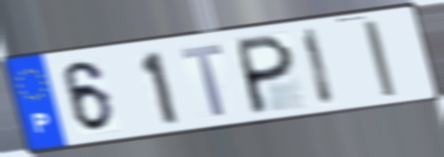1: (138, 48, 181, 128)
6: (61, 60, 117, 136)
I: (359, 17, 400, 100), (299, 25, 339, 108)
P: (235, 30, 296, 116)
T: (177, 41, 229, 119)
